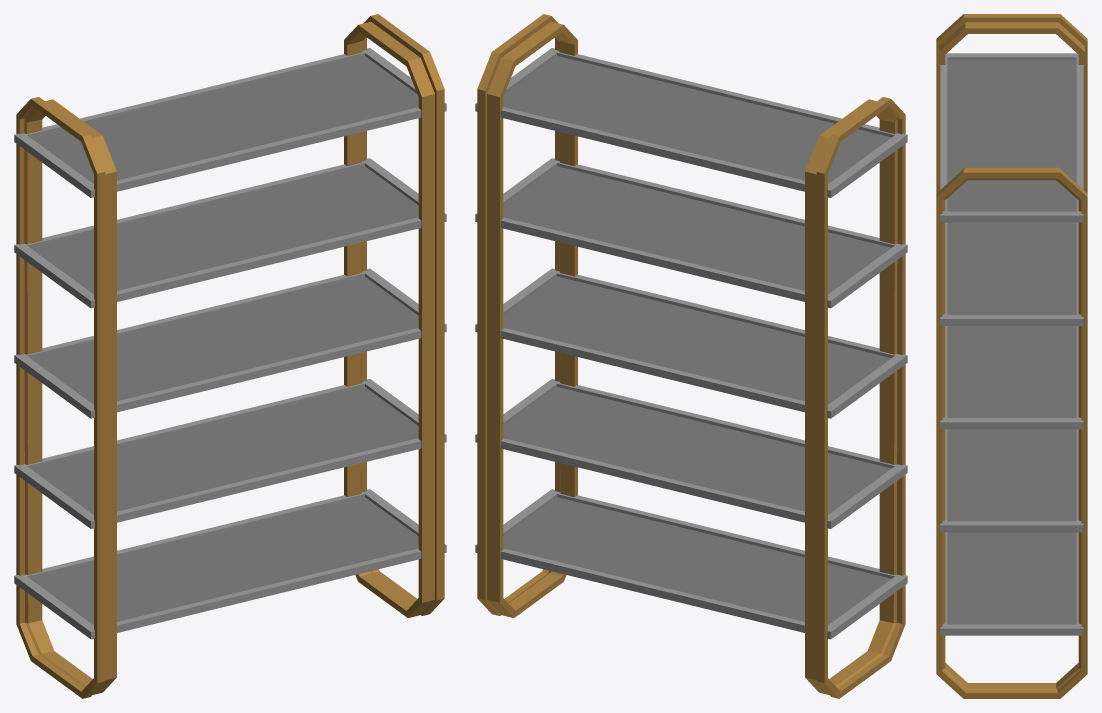
File: Props_Shelf_Tall.glb
The picture shows the model from 3 angles, left to right: view 1: azimuth 30°, elevation 25°; view 2: azimuth 150°, elevation 25°; view 3: azimuth 270°, elevation 25°; orthographic projection. The views are drawn at different scales.
Visible parts, largest first — view 1: Props_Shelf_Tall; view 2: Props_Shelf_Tall; view 3: Props_Shelf_Tall.
Part boxes in pixels (x1=…): Props_Shelf_Tall: x1=14, y1=14, x2=446, y2=698; Props_Shelf_Tall: x1=475, y1=14, x2=907, y2=698; Props_Shelf_Tall: x1=936, y1=14, x2=1087, y2=698.
Size of the model in its own units: 2.06 by 3.11 by 0.8108.
